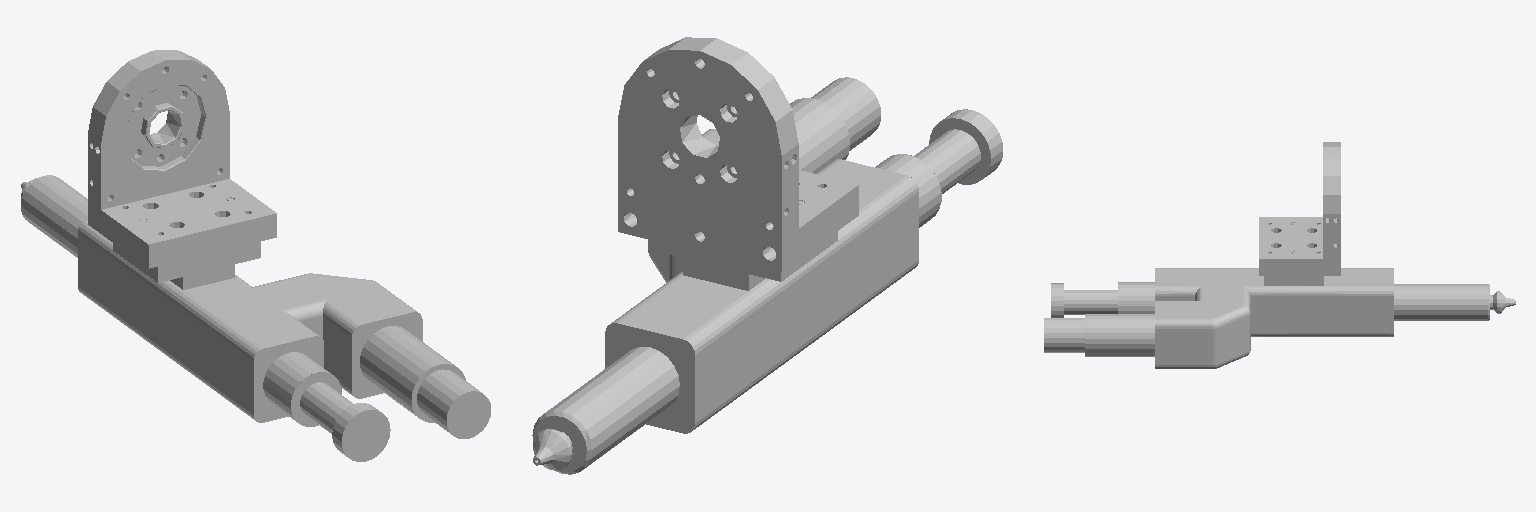
URDF robot description (ur5e_with_optik):
<?xml version="1.0" ?>
<!-- =================================================================================== -->
<!-- |    This document was autogenerated by xacro from ur5e_with_optik.xacro          | -->
<!-- |    EDITING THIS FILE BY HAND IS NOT RECOMMENDED                                 | -->
<!-- =================================================================================== -->
<robot name="ur5e_with_optik">
  <!--
    Base UR robot series xacro macro.

    NOTE: this is NOT a URDF. It cannot directly be loaded by consumers
    expecting a flattened '.urdf' file. See the top-level '.xacro' for that
    (but note: that .xacro must still be processed by the xacro command).

    For use in '.launch' files: use one of the 'load_urX.launch' convenience
    launch files.

    This file models the base kinematic chain of a UR robot, which then gets
    parameterised by various configuration files to convert it into a UR3(e),
    UR5(e), UR10(e) or UR16e.

    NOTE: the default kinematic parameters (ie: link lengths, frame locations,
    offets, etc) do not correspond to any particular robot. They are defaults
    only. There WILL be non-zero offsets between the Forward Kinematics results
    in TF (ie: robot_state_publisher) and the values reported by the Teach
    Pendant.

    For accurate (and robot-specific) transforms, the 'kinematics_parameters_file'
    parameter MUST point to a .yaml file containing the appropriate values for
    the targetted robot.

    If using the UniversalRobots/Universal_Robots_ROS_Driver, follow the steps
    described in the readme of that repository to extract the kinematic
    calibration from the controller and generate the required .yaml file.

    Main author of the migration to yaml configs: [author].

    Contributors to previous versions (in no particular order):

     - [author]
     - [author]
     - [author]
     - [author]
     - [author]
     - [author]
     - [author]
     - [author]
     - [author]
     - [author]
     - [author]
     - [author]
     - [author]
     - [author]
     - [author]
     - [author]
     - [author]
  -->
  <!--
    NOTE: the macro defined in this file is NOT part of the public API of this
          package. Users CANNOT rely on this file being available, or stored in
          this location. Nor can they rely on the existence of the macro.
  -->
  <transmission name="shoulder_pan_trans">
    <type>transmission_interface/SimpleTransmission</type>
    <joint name="shoulder_pan_joint">
      <hardwareInterface>hardware_interface/PositionJointInterface</hardwareInterface>
    </joint>
    <actuator name="shoulder_pan_motor">
      <mechanicalReduction>1</mechanicalReduction>
    </actuator>
  </transmission>
  <transmission name="shoulder_lift_trans">
    <type>transmission_interface/SimpleTransmission</type>
    <joint name="shoulder_lift_joint">
      <hardwareInterface>hardware_interface/PositionJointInterface</hardwareInterface>
    </joint>
    <actuator name="shoulder_lift_motor">
      <mechanicalReduction>1</mechanicalReduction>
    </actuator>
  </transmission>
  <transmission name="elbow_trans">
    <type>transmission_interface/SimpleTransmission</type>
    <joint name="elbow_joint">
      <hardwareInterface>hardware_interface/PositionJointInterface</hardwareInterface>
    </joint>
    <actuator name="elbow_motor">
      <mechanicalReduction>1</mechanicalReduction>
    </actuator>
  </transmission>
  <transmission name="wrist_1_trans">
    <type>transmission_interface/SimpleTransmission</type>
    <joint name="wrist_1_joint">
      <hardwareInterface>hardware_interface/PositionJointInterface</hardwareInterface>
    </joint>
    <actuator name="wrist_1_motor">
      <mechanicalReduction>1</mechanicalReduction>
    </actuator>
  </transmission>
  <transmission name="wrist_2_trans">
    <type>transmission_interface/SimpleTransmission</type>
    <joint name="wrist_2_joint">
      <hardwareInterface>hardware_interface/PositionJointInterface</hardwareInterface>
    </joint>
    <actuator name="wrist_2_motor">
      <mechanicalReduction>1</mechanicalReduction>
    </actuator>
  </transmission>
  <transmission name="wrist_3_trans">
    <type>transmission_interface/SimpleTransmission</type>
    <joint name="wrist_3_joint">
      <hardwareInterface>hardware_interface/PositionJointInterface</hardwareInterface>
    </joint>
    <actuator name="wrist_3_motor">
      <mechanicalReduction>1</mechanicalReduction>
    </actuator>
  </transmission>
  <!-- links: main serial chain -->
  <link name="base_link"/>
  <link name="base_link_inertia">
    <visual>
      <origin rpy="0 0 3.141592653589793" xyz="0 0 0"/>
      <geometry>
        <mesh filename="package://ur_description/meshes/ur5e/visual/base.dae"/>
      </geometry>
      <material name="LightGrey">
        <color rgba="0.7 0.7 0.7 1.0"/>
      </material>
    </visual>
    <collision>
      <origin rpy="0 0 3.141592653589793" xyz="0 0 0"/>
      <geometry>
        <mesh filename="package://ur_description/meshes/ur5e/collision/base.stl"/>
      </geometry>
    </collision>
    <inertial>
      <mass value="4.0"/>
      <origin rpy="0 0 0" xyz="0 0 0"/>
      <inertia ixx="0.00443333156" ixy="0.0" ixz="0.0" iyy="0.00443333156" iyz="0.0" izz="0.0072"/>
    </inertial>
  </link>
  <link name="shoulder_link">
    <visual>
      <origin rpy="0 0 3.141592653589793" xyz="0 0 0"/>
      <geometry>
        <mesh filename="package://ur_description/meshes/ur5e/visual/shoulder.dae"/>
      </geometry>
      <material name="LightGrey">
        <color rgba="0.7 0.7 0.7 1.0"/>
      </material>
    </visual>
    <collision>
      <origin rpy="0 0 3.141592653589793" xyz="0 0 0"/>
      <geometry>
        <mesh filename="package://ur_description/meshes/ur5e/collision/shoulder.stl"/>
      </geometry>
    </collision>
    <inertial>
      <mass value="3.7"/>
      <origin rpy="0 0 0" xyz="0 0 0"/>
      <inertia ixx="0.010267495893" ixy="0.0" ixz="0.0" iyy="0.010267495893" iyz="0.0" izz="0.00666"/>
    </inertial>
  </link>
  <link name="upper_arm_link">
    <visual>
      <origin rpy="1.5707963267948966 0 -1.5707963267948966" xyz="0 0 0.138"/>
      <geometry>
        <mesh filename="package://ur_description/meshes/ur5e/visual/upperarm.dae"/>
      </geometry>
      <material name="LightGrey">
        <color rgba="0.7 0.7 0.7 1.0"/>
      </material>
    </visual>
    <collision>
      <origin rpy="1.5707963267948966 0 -1.5707963267948966" xyz="0 0 0.138"/>
      <geometry>
        <mesh filename="package://ur_description/meshes/ur5e/collision/upperarm.stl"/>
      </geometry>
    </collision>
    <inertial>
      <mass value="8.393"/>
      <origin rpy="0 1.5707963267948966 0" xyz="-0.2125 0.0 0.138"/>
      <inertia ixx="0.1338857818623325" ixy="0.0" ixz="0.0" iyy="0.1338857818623325" iyz="0.0" izz="0.0151074"/>
    </inertial>
  </link>
  <link name="forearm_link">
    <visual>
      <origin rpy="1.5707963267948966 0 -1.5707963267948966" xyz="0 0 0.007"/>
      <geometry>
        <mesh filename="package://ur_description/meshes/ur5e/visual/forearm.dae"/>
      </geometry>
      <material name="LightGrey">
        <color rgba="0.7 0.7 0.7 1.0"/>
      </material>
    </visual>
    <collision>
      <origin rpy="1.5707963267948966 0 -1.5707963267948966" xyz="0 0 0.007"/>
      <geometry>
        <mesh filename="package://ur_description/meshes/ur5e/collision/forearm.stl"/>
      </geometry>
    </collision>
    <inertial>
      <mass value="2.275"/>
      <origin rpy="0 1.5707963267948966 0" xyz="-0.1961 0.0 0.007"/>
      <inertia ixx="0.031209355099586295" ixy="0.0" ixz="0.0" iyy="0.031209355099586295" iyz="0.0" izz="0.004095"/>
    </inertial>
  </link>
  <link name="wrist_1_link">
    <visual>
      <!-- TODO: Move this to a parameter -->
      <origin rpy="1.5707963267948966 0 0" xyz="0 0 -0.127"/>
      <geometry>
        <mesh filename="package://ur_description/meshes/ur5e/visual/wrist1.dae"/>
      </geometry>
      <material name="LightGrey">
        <color rgba="0.7 0.7 0.7 1.0"/>
      </material>
    </visual>
    <collision>
      <origin rpy="1.5707963267948966 0 0" xyz="0 0 -0.127"/>
      <geometry>
        <mesh filename="package://ur_description/meshes/ur5e/collision/wrist1.stl"/>
      </geometry>
    </collision>
    <inertial>
      <mass value="1.219"/>
      <origin rpy="0 0 0" xyz="0 0 0"/>
      <inertia ixx="0.0025598989760400002" ixy="0.0" ixz="0.0" iyy="0.0025598989760400002" iyz="0.0" izz="0.0021942"/>
    </inertial>
  </link>
  <link name="wrist_2_link">
    <visual>
      <origin rpy="0 0 0" xyz="0 0 -0.0997"/>
      <geometry>
        <mesh filename="package://ur_description/meshes/ur5e/visual/wrist2.dae"/>
      </geometry>
      <material name="LightGrey">
        <color rgba="0.7 0.7 0.7 1.0"/>
      </material>
    </visual>
    <collision>
      <origin rpy="0 0 0" xyz="0 0 -0.0997"/>
      <geometry>
        <mesh filename="package://ur_description/meshes/ur5e/collision/wrist2.stl"/>
      </geometry>
    </collision>
    <inertial>
      <mass value="1.219"/>
      <origin rpy="0 0 0" xyz="0 0 0"/>
      <inertia ixx="0.0025598989760400002" ixy="0.0" ixz="0.0" iyy="0.0025598989760400002" iyz="0.0" izz="0.0021942"/>
    </inertial>
  </link>
  <link name="wrist_3_link">
    <visual>
      <origin rpy="1.5707963267948966 0 0" xyz="0 0 -0.0989"/>
      <geometry>
        <mesh filename="package://ur_description/meshes/ur5e/visual/wrist3.dae"/>
      </geometry>
      <material name="LightGrey">
        <color rgba="0.7 0.7 0.7 1.0"/>
      </material>
    </visual>
    <collision>
      <origin rpy="1.5707963267948966 0 0" xyz="0 0 -0.0989"/>
      <geometry>
        <mesh filename="package://ur_description/meshes/ur5e/collision/wrist3.stl"/>
      </geometry>
    </collision>
    <inertial>
      <mass value="0.1879"/>
      <origin rpy="0 0 0" xyz="0.0 0.0 -0.0229"/>
      <inertia ixx="9.890410052167731e-05" ixy="0.0" ixz="0.0" iyy="9.890410052167731e-05" iyz="0.0" izz="0.0001321171875"/>
    </inertial>
  </link>
  <!-- joints: main serial chain -->
  <joint name="base_link-base_link_inertia" type="fixed">
    <parent link="base_link"/>
    <child link="base_link_inertia"/>
    <!-- 'base_link' is REP-103 aligned (so X+ forward), while the internal
           frames of the robot/controller have X+ pointing backwards.
           Use the joint between 'base_link' and 'base_link_inertia' (a dummy
           link/frame) to introduce the necessary rotation over Z (of pi rad).
      -->
    <origin rpy="0 0 3.141592653589793" xyz="0 0 0"/>
  </joint>
  <joint name="shoulder_pan_joint" type="revolute">
    <parent link="base_link_inertia"/>
    <child link="shoulder_link"/>
    <origin rpy="0 0 0" xyz="0 0 0.1625"/>
    <axis xyz="0 0 1"/>
    <limit effort="150.0" lower="-6.283185307179586" upper="6.283185307179586" velocity="3.141592653589793"/>
    <dynamics damping="0" friction="0"/>
  </joint>
  <joint name="shoulder_lift_joint" type="revolute">
    <parent link="shoulder_link"/>
    <child link="upper_arm_link"/>
    <origin rpy="1.570796327 0 0" xyz="0 0 0"/>
    <axis xyz="0 0 1"/>
    <limit effort="150.0" lower="-6.283185307179586" upper="6.283185307179586" velocity="3.141592653589793"/>
    <dynamics damping="0" friction="0"/>
  </joint>
  <joint name="elbow_joint" type="revolute">
    <parent link="upper_arm_link"/>
    <child link="forearm_link"/>
    <origin rpy="0 0 0" xyz="-0.425 0 0"/>
    <axis xyz="0 0 1"/>
    <limit effort="150.0" lower="-3.141592653589793" upper="3.141592653589793" velocity="3.141592653589793"/>
    <dynamics damping="0" friction="0"/>
  </joint>
  <joint name="wrist_1_joint" type="revolute">
    <parent link="forearm_link"/>
    <child link="wrist_1_link"/>
    <origin rpy="0 0 0" xyz="-0.3922 0 0.1333"/>
    <axis xyz="0 0 1"/>
    <limit effort="28.0" lower="-6.283185307179586" upper="6.283185307179586" velocity="3.141592653589793"/>
    <dynamics damping="0" friction="0"/>
  </joint>
  <joint name="wrist_2_joint" type="revolute">
    <parent link="wrist_1_link"/>
    <child link="wrist_2_link"/>
    <origin rpy="1.570796327 0 0" xyz="0 -0.0997 -2.044881182297852e-11"/>
    <axis xyz="0 0 1"/>
    <limit effort="28.0" lower="-6.283185307179586" upper="6.283185307179586" velocity="3.141592653589793"/>
    <dynamics damping="0" friction="0"/>
  </joint>
  <joint name="wrist_3_joint" type="revolute">
    <parent link="wrist_2_link"/>
    <child link="wrist_3_link"/>
    <origin rpy="1.570796326589793 3.141592653589793 3.141592653589793" xyz="0 0.0996 -2.042830148012698e-11"/>
    <axis xyz="0 0 1"/>
    <limit effort="28.0" lower="-6.283185307179586" upper="6.283185307179586" velocity="3.141592653589793"/>
    <dynamics damping="0" friction="0"/>
  </joint>
  <!-- ROS-Industrial 'base' frame: base_link to UR 'Base' Coordinates transform -->
  <link name="base"/>
  <joint name="base_link-base_fixed_joint" type="fixed">
    <!-- Note the rotation over Z of pi radians: as base_link is REP-103
           aligned (ie: has X+ forward, Y+ left and Z+ up), this is needed
           to correctly align 'base' with the 'Base' coordinate system of
           the UR controller.
      -->
    <origin rpy="0 0 3.141592653589793" xyz="0 0 0"/>
    <parent link="base_link"/>
    <child link="base"/>
  </joint>
  <!-- ROS-Industrial 'flange' frame: attachment point for EEF models -->
  <link name="flange"/>
  <joint name="wrist_3-flange" type="fixed">
    <parent link="wrist_3_link"/>
    <child link="flange"/>
    <origin rpy="0 -1.5707963267948966 -1.5707963267948966" xyz="0 0 0"/>
  </joint>
  <!-- ROS-Industrial 'tool0' frame: all-zeros tool frame -->
  <link name="tool0"/>
  <joint name="flange-tool0" type="fixed">
    <!-- default toolframe: X+ left, Y+ up, Z+ front -->
    <origin rpy="1.5707963267948966 0 1.5707963267948966" xyz="0 0 0"/>
    <parent link="flange"/>
    <child link="tool0"/>
  </joint>
  <!-- Create a fixed joint with a parameterized name. -->
  <joint name="ur5e_optik_joint" type="fixed">
    <!-- The parent link must be read from the robot model it is attached to. -->
    <parent link="tool0"/>
    <child link="ur5e_optik"/>
    <!-- The tool is directly attached to the flange. -->
    <origin rpy="0 0 0" xyz="0 0 0"/>
  </joint>
  <link name="ur5e_optik">
    <visual>
      <geometry>
        <!-- The path to the visual meshes in the package. -->
        <mesh filename="package://ur5e_with_optik/meshes/visual/complete_optik.dae"/>
      </geometry>
    </visual>
    <collision>
      <geometry>
        <!-- The path to the collision meshes in the package. -->
        <mesh filename="package://ur5e_with_optik/meshes/collision/complete_optik.stl"/>
      </geometry>
    </collision>
    <inertial>
      <mass value="4.3"/>
      <origin xyz="-0.02105 -0.1014 -0.06991"/>
      <inertia ixx="0.043001" ixy="-0.001689" ixz="-0.009057" iyy="0.043001" iyz="-0.003953" izz="0.013061"/>
    </inertial>
  </link>
  <!-- TCP frame -->
  <joint name="tcp_joint" type="fixed">
    <origin rpy="0 0 0" xyz="0 -0.1204 0.19357"/>
    <parent link="ur5e_optik"/>
    <child link="tcp"/>
  </joint>
  <link name="tcp"/>
  <!-- define the ur5's position and orientation in the world coordinate system -->
  <link name="world"/>
  <joint name="world_joint" type="fixed">
    <parent link="world"/>
    <child link="base_link"/>
    <!-- TODO: check base_link name of robot -->
    <origin rpy="0.0 0.0 0.0" xyz="0.0 0.0 0.0"/>
  </joint>
</robot>

--- Render facts (derived) ---
The picture shows the robot from 3 angles, left to right: view 1: azimuth 30°, elevation 25°; view 2: azimuth 150°, elevation 25°; view 3: azimuth 270°, elevation 25°; orthographic projection.
Robot: ur5e_with_optik — 14 links, 13 joints (6 revolute, 7 fixed); root link world; default pose: every joint at zero.
Visible links, largest first — view 1: ur5e_optik; view 2: ur5e_optik; view 3: ur5e_optik.
Link boxes in pixels (x1,y1,x2,y2): ur5e_optik: (21, 50, 490, 461); ur5e_optik: (532, 37, 1002, 474); ur5e_optik: (1044, 142, 1515, 368).
Size in the robot's own frame: 0.154 by 0.467 by 0.1975 metres.
Meshes: 8 distinct files referenced, 1 mesh visuals loaded (1 Collada DAE); not drawn: 7 (reference not matched to a file when rendering).